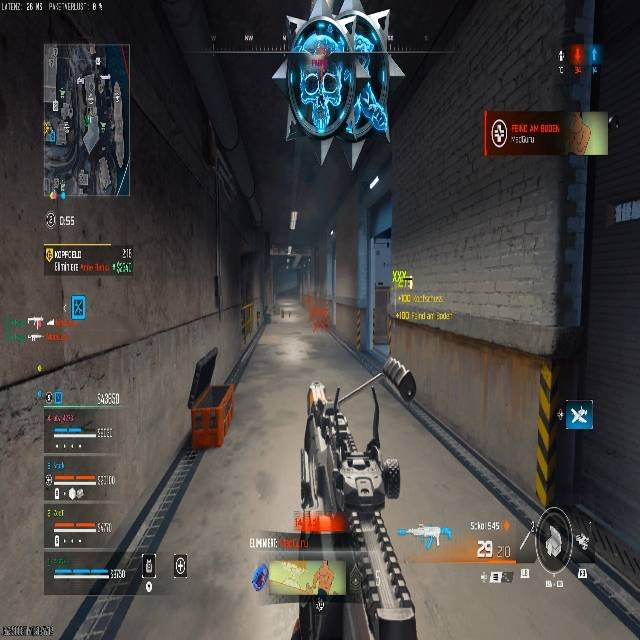player: (178, 283, 418, 639)
